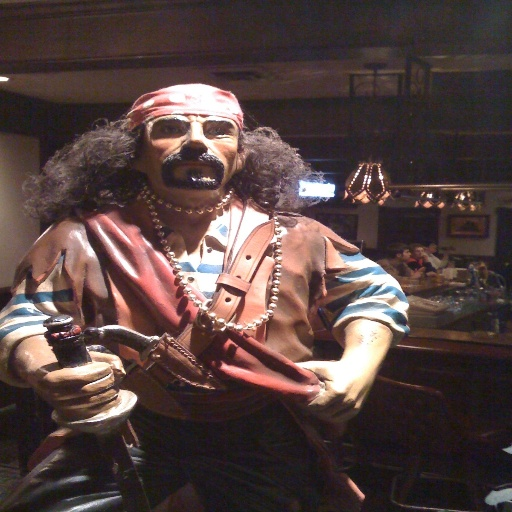hand: (20, 347, 131, 424), (293, 361, 372, 422), (409, 271, 424, 279), (415, 265, 427, 273), (442, 251, 451, 261), (421, 254, 428, 261)
